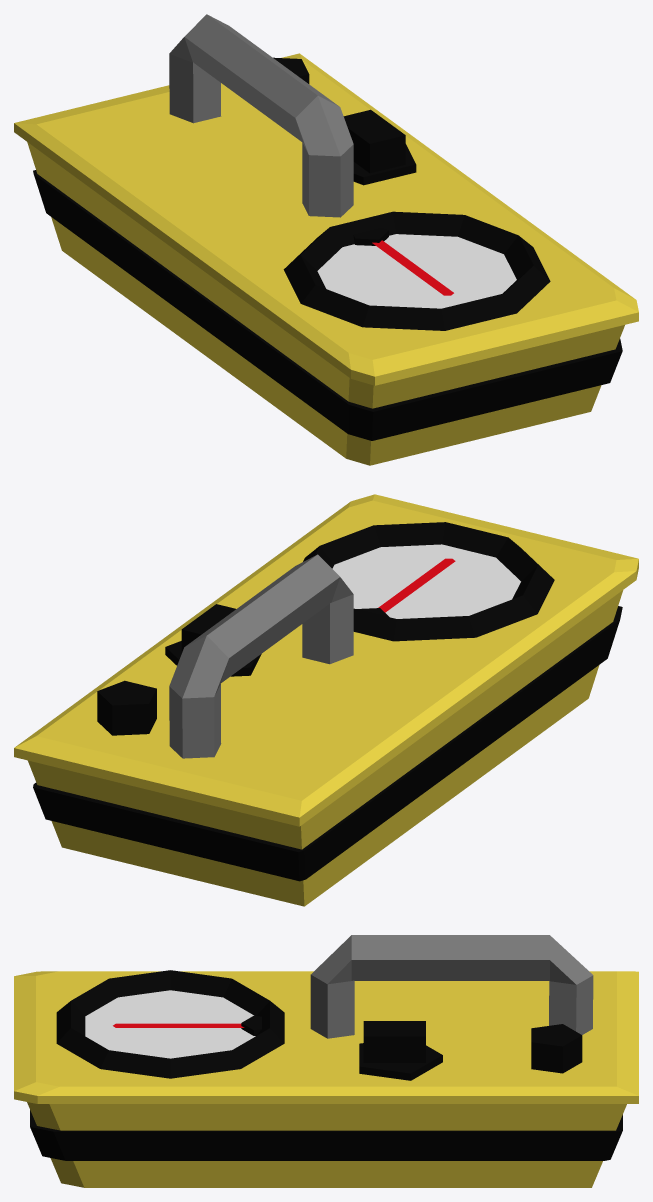
File: i guess its a geiger counter.fbx
3 views of the same model, one above another, from view 1: azimuth 30°, elevation 25°; view 2: azimuth 150°, elevation 25°; view 3: azimuth 270°, elevation 25° (orthographic). The views are drawn at different scales.
Parts seen in each view (by area): view 1: Cube, Cylinder, Torus.001, Cube.001, Cylinder.002, Plane; view 2: Cube, Cylinder, Torus.001, Cylinder.001, Cube.001, Plane; view 3: Cube, Cylinder, Torus.001, Cube.001, Cylinder.001, Cylinder.002, Plane.
Boxes of the visible parts, x1,y1,x2,y2 form: Cube: [14, 53, 638, 465]; Cylinder: [169, 14, 353, 217]; Torus.001: [283, 211, 550, 330]; Cube.001: [343, 109, 405, 173]; Cylinder.002: [353, 144, 416, 185]; Plane: [372, 240, 453, 295]; Cube: [14, 494, 638, 906]; Cylinder: [169, 554, 353, 758]; Torus.001: [303, 522, 554, 641]; Cylinder.001: [97, 680, 156, 735]; Cube.001: [181, 604, 235, 653]; Plane: [378, 558, 455, 612]; Cube: [14, 971, 638, 1187]; Cylinder: [310, 935, 593, 1038]; Torus.001: [56, 970, 284, 1078]; Cube.001: [363, 1021, 425, 1062]; Cylinder.001: [531, 1024, 582, 1073]; Cylinder.002: [359, 1043, 442, 1080]; Plane: [113, 1023, 244, 1027].
Bounding box in the file's own units: 70.48 × 52.86 × 150.
